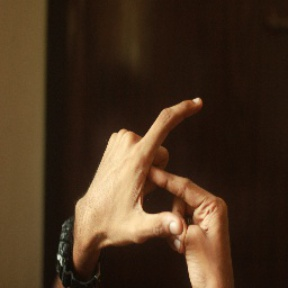E: (129, 89, 214, 246)
